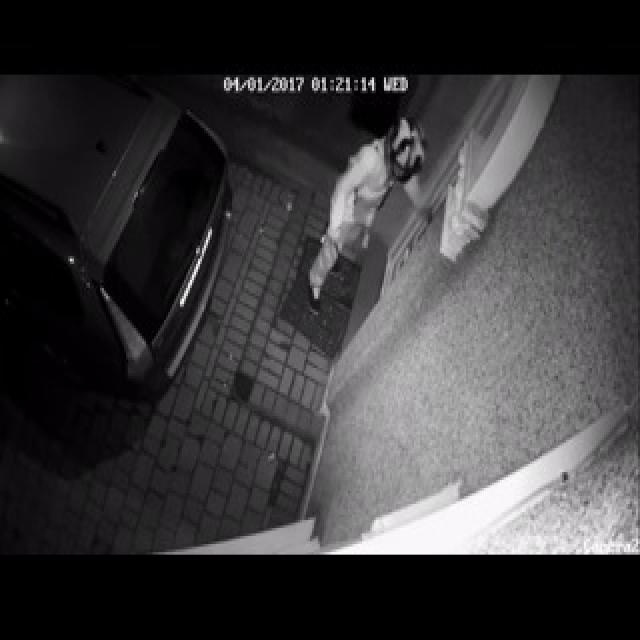thief: (333, 128, 438, 274)
